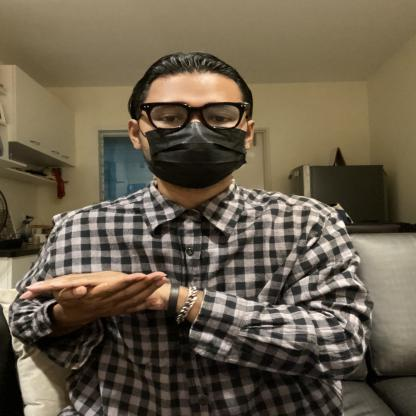Love: (17, 240, 250, 343)
